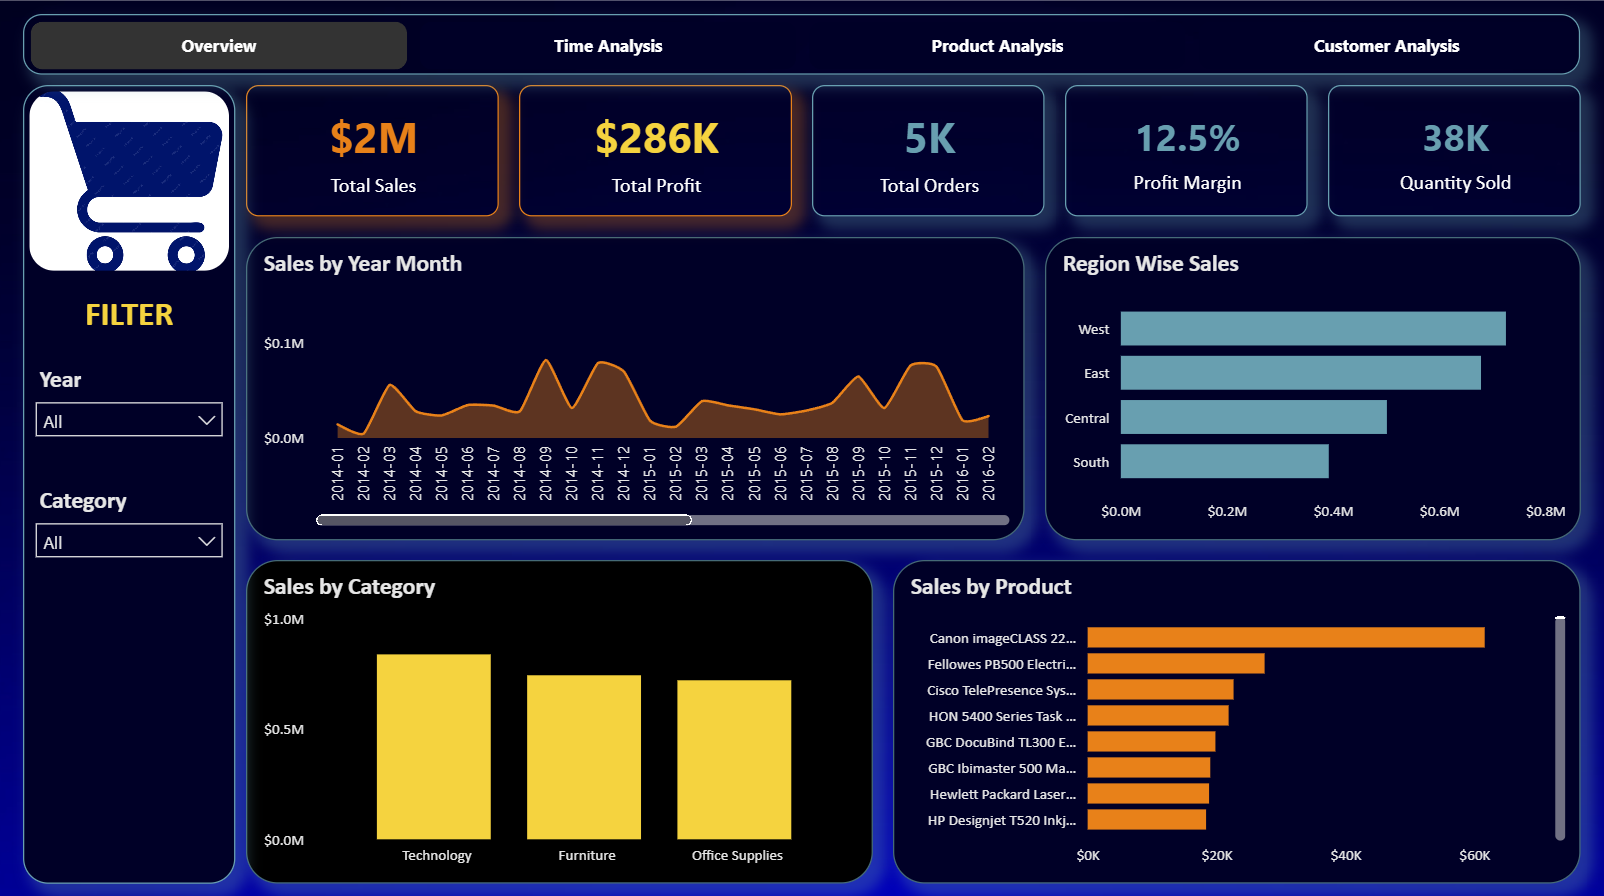

The dashboard page shown, as its layout file describes it:
{"tool":"powerbi","page":{"name":"Overview","canvas":[1280,720],"ordinal":0},"visuals":[{"type":"cardVisual","fields":{"Data":["dim_date.yearly sales","Sum(fact_sales.profit)","dim_date.Total Orders","fact_sales.Profit Margin","fact_sales.Quantity Sold"]},"box":[80,24,1032,104],"z":0},{"type":"slicer","fields":{"Values":["dim_date.Year"]},"box":[1144,24,96,104],"z":1000},{"type":"lineChart","fields":{"Category":["dim_date.Year Month"],"Y":["Sum(fact_sales.sales)"]},"box":[77.1,141.1,720.7,274.1],"z":2000},{"type":"barChart","title":"Region wise sales","fields":{"Category":["fact_sales.region"],"Y":["Sum(fact_sales.sales)"]},"box":[832,144,408,272],"z":3000},{"type":"columnChart","fields":{"Category":["dim_product.category"],"Y":["Sum(fact_sales.sales)"]},"box":[77.1,428.4,450.7,252.8],"z":4000},{"type":"barChart","fields":{"Category":["dim_product.product_name"],"Y":["Sum(fact_sales.sales)"]},"box":[576,432,664,248],"z":5000},{"type":"pageNavigator","box":[80,672,1160,48],"z":5001}]}

Visuals, with their boxes in screenshot pixels (x1, y1, x2, y2), scaled from the page's 1280x720 canvas onto the 1604x896 screenshot:
cardVisual - dim_date.yearly sales x Sum(fact_sales.profit): region(100, 30, 1393, 159)
slicer - dim_date.Year: region(1434, 30, 1554, 159)
lineChart - dim_date.Year Month x Sum(fact_sales.sales): region(97, 176, 1000, 517)
"Region wise sales" barChart: region(1043, 179, 1554, 518)
columnChart - dim_product.category x Sum(fact_sales.sales): region(97, 533, 661, 848)
barChart - dim_product.product_name x Sum(fact_sales.sales): region(722, 538, 1554, 846)
pageNavigator: region(100, 836, 1554, 895)
